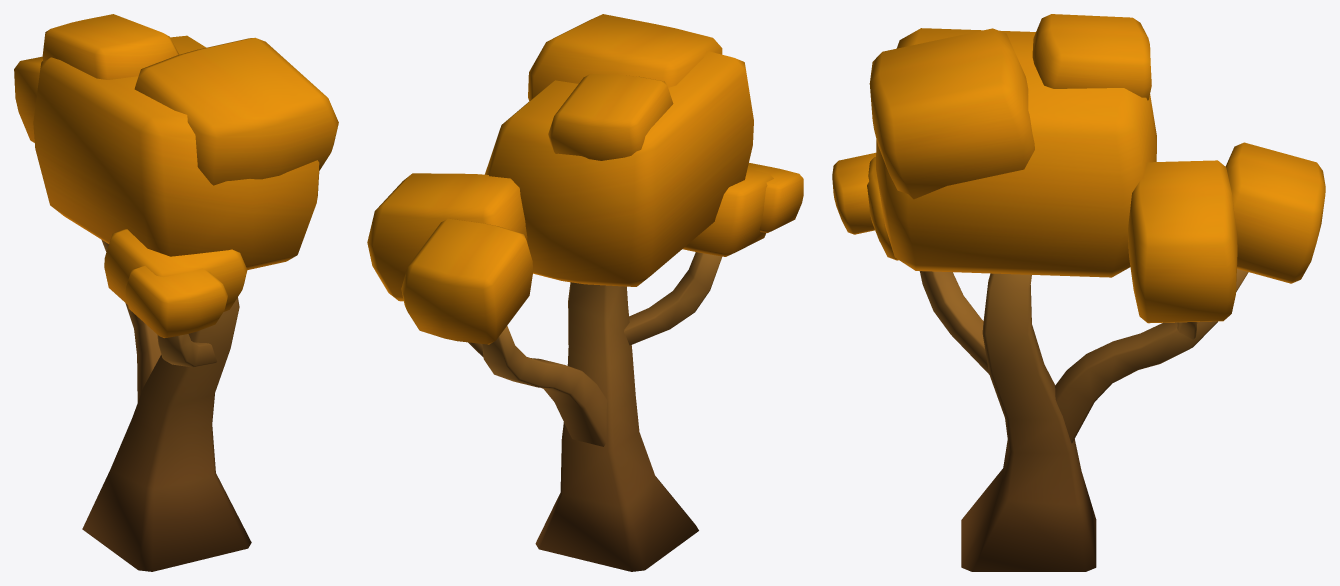
Rendered from Tree_3_3.obj.
The picture shows the model from 3 angles, left to right: view 1: azimuth 30°, elevation 25°; view 2: azimuth 150°, elevation 25°; view 3: azimuth 270°, elevation 25°; orthographic projection. The views are drawn at different scales.
Parts seen in each view (by area): view 1: Tree_3_3; view 2: Tree_3_3; view 3: Tree_3_3.
Part boxes in pixels (left/top/right/bottom): Tree_3_3: left=14, top=14, right=338, bottom=571; Tree_3_3: left=367, top=14, right=803, bottom=571; Tree_3_3: left=832, top=14, right=1325, bottom=571.
Bounding box in the file's own units: 2.41 × 4.13 × 3.68.
